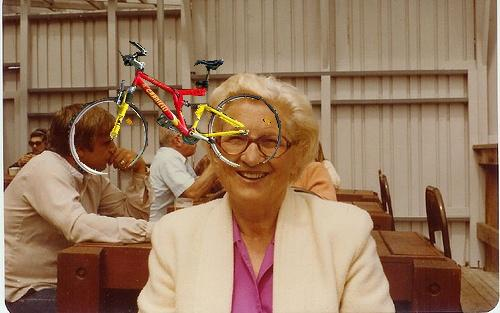tampered: (69, 42, 281, 175)
